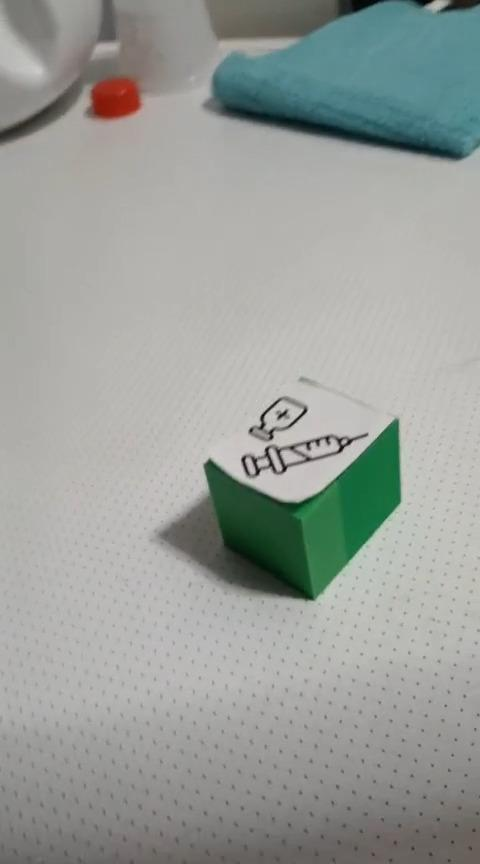antiseptic cream: (201, 372, 403, 600)
